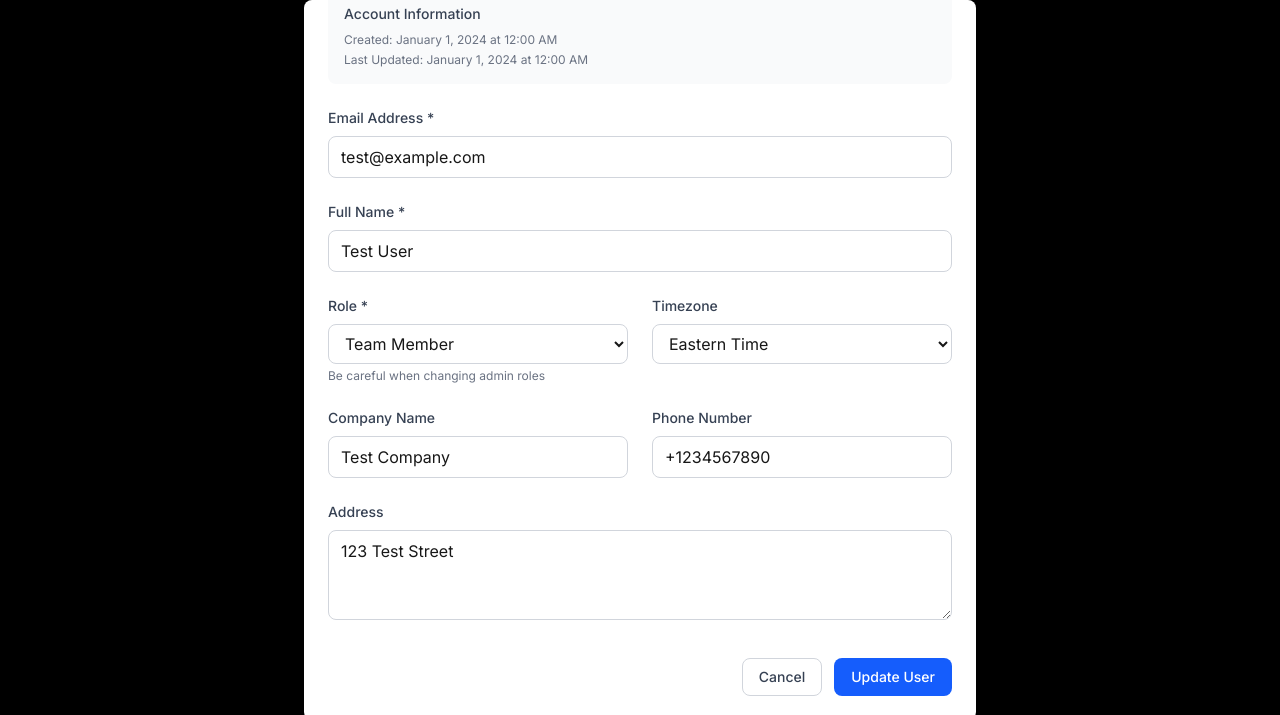
Scenario: UserEditModal › should handle submission errors
(page scrolled)
Step 1. Click the button "Update User" → (893, 677), box x1=834 y1=658 x2=952 y2=696
(page scrolled)
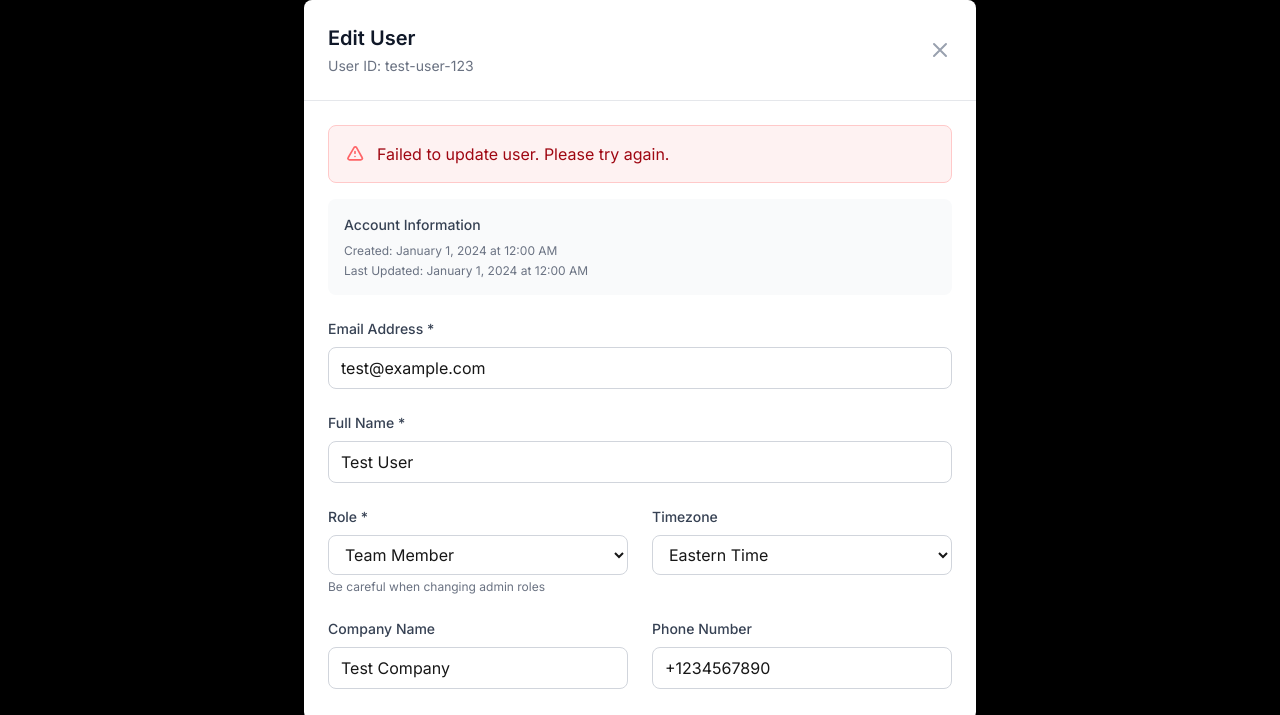
Expected: the text "Failed to update user. Please try again." is shown, x1=377 y1=142 x2=670 y2=166
